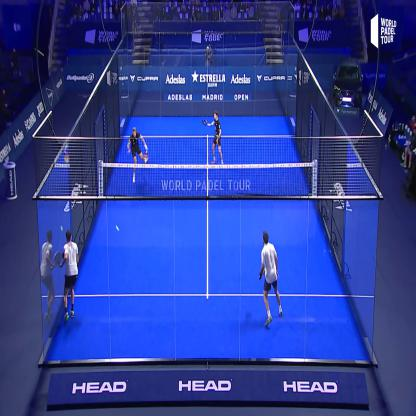ball: (114, 218, 122, 237)
